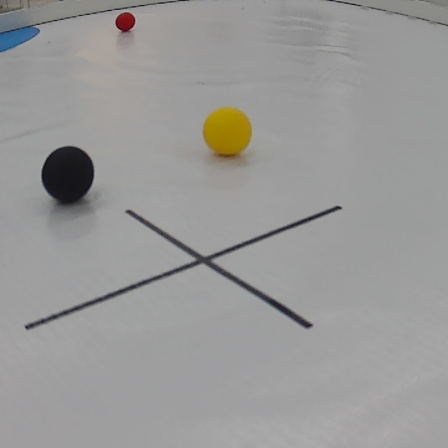black: (38, 139, 98, 208)
blue_base: (0, 22, 45, 58)
red: (115, 10, 138, 31)
yellow: (202, 105, 252, 156)
